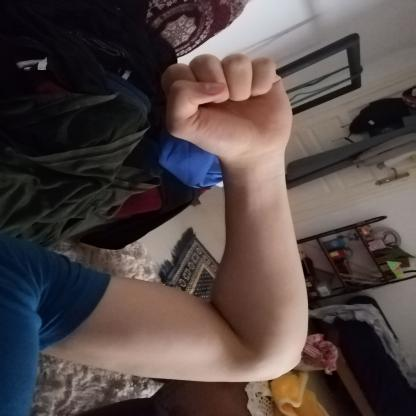SAD: (135, 42, 309, 168)
